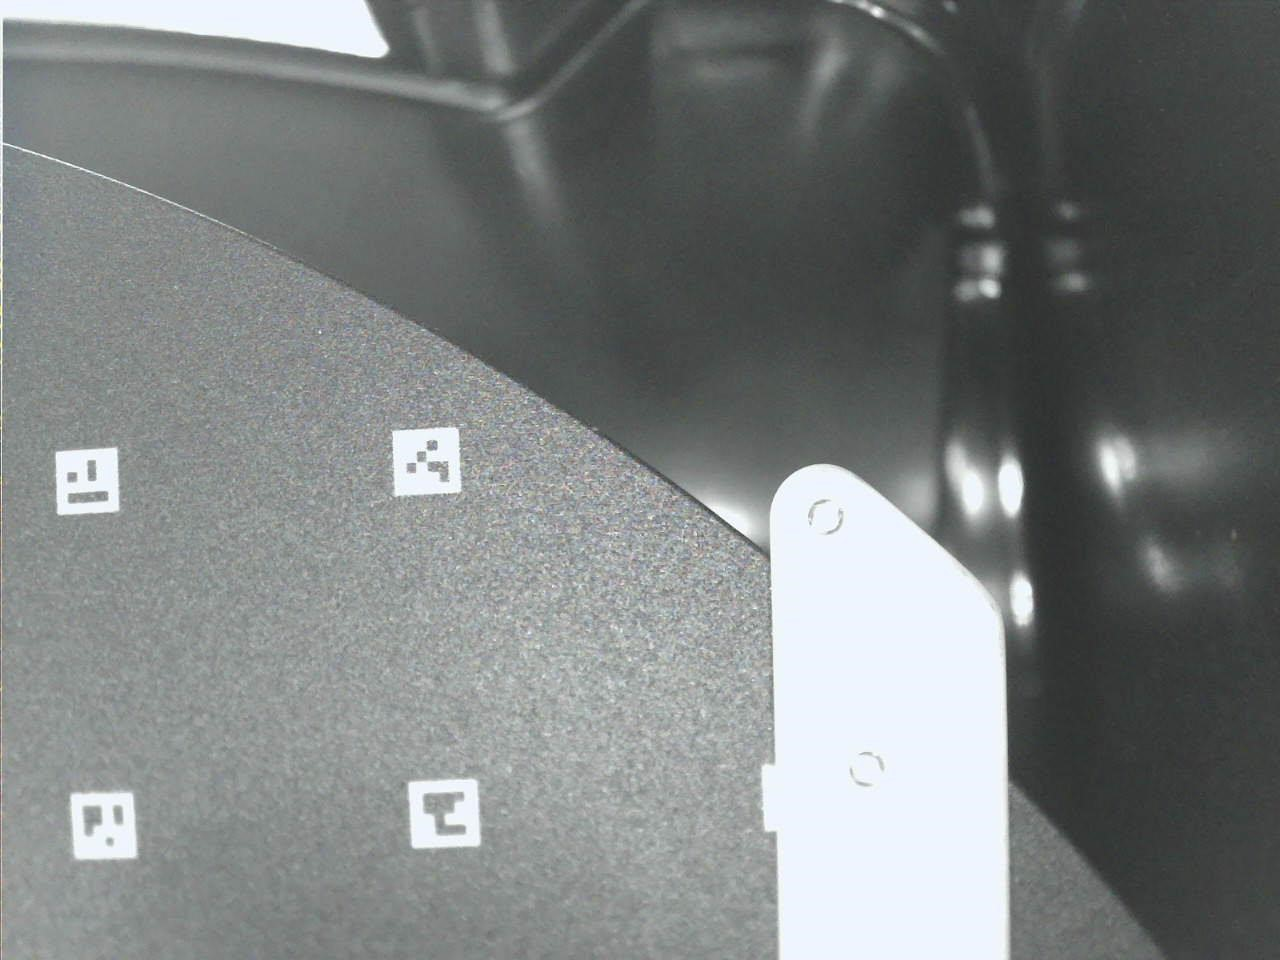tip: (753, 435, 1045, 946)
